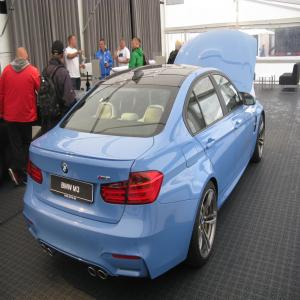Vehicle-registration-plate: (51, 174, 94, 203)
